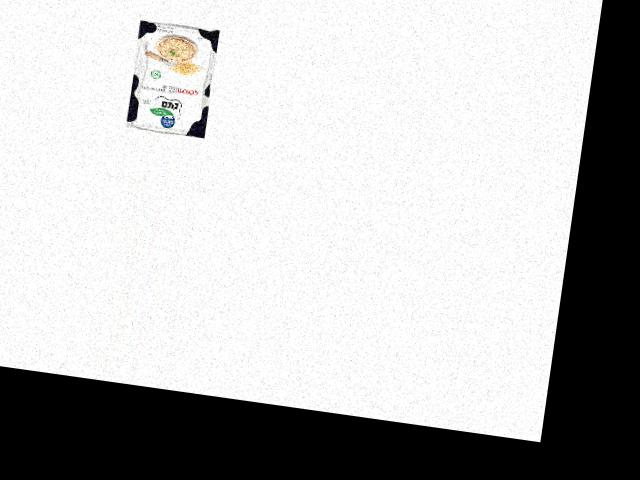cheese: (123, 17, 222, 139)
